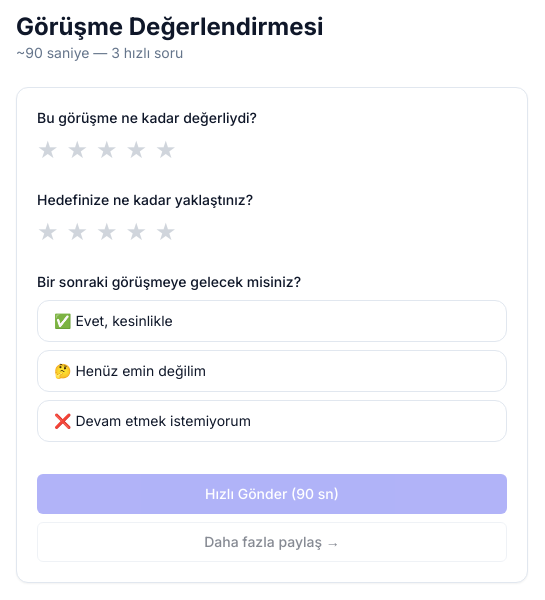
Test: Check-in sayfası — kutlama sayısı (AJ-33) › 9. görüşmenin check-in'i 10. eşiği erken GÖSTERMEZ
Click the 5th button "★". click: [166, 150]
box: [155, 134, 177, 166]
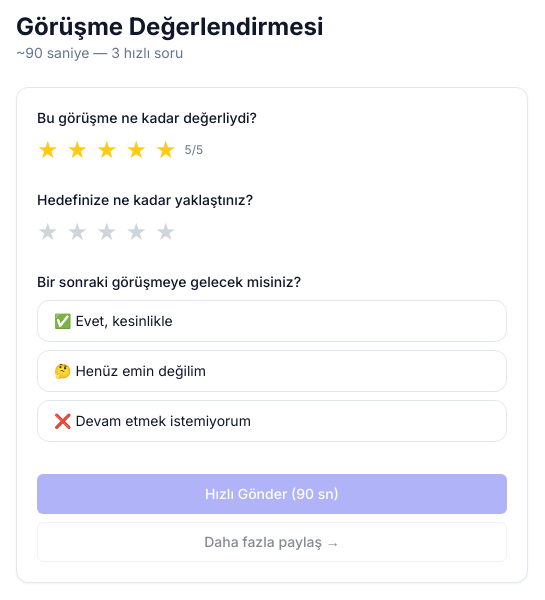
Click the 10th button "★". click: [166, 232]
box: [155, 216, 177, 248]
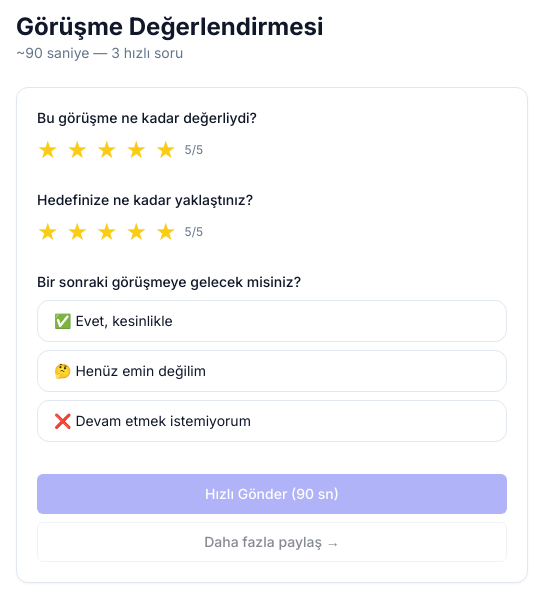
Click the button "✅ Evet, kesinlikle". click: [113, 320]
box: [37, 300, 507, 342]
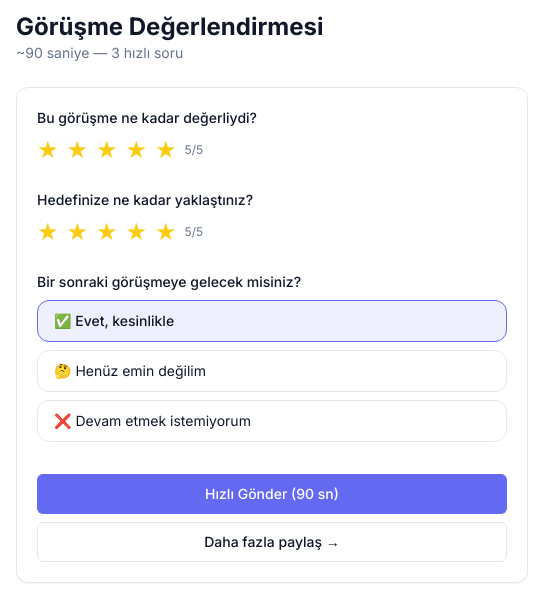
Click the button "Hızlı Gönder (90 sn)". click: [272, 494]
box: [37, 474, 507, 514]
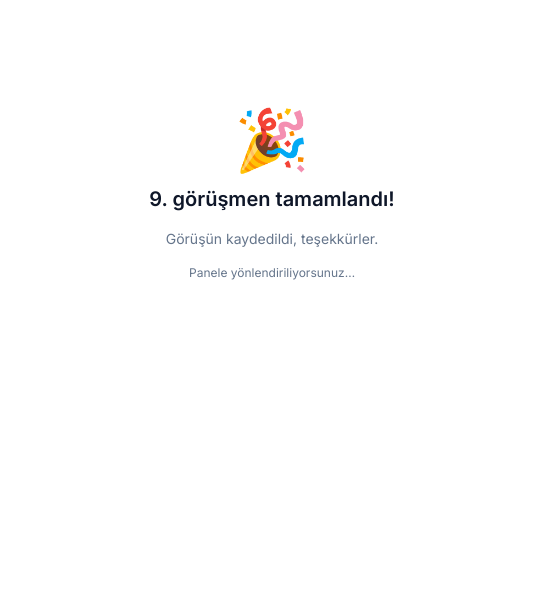
Expected: the heading "9. görüşmen tamamlandı!" is shown, [149, 185, 395, 213]
